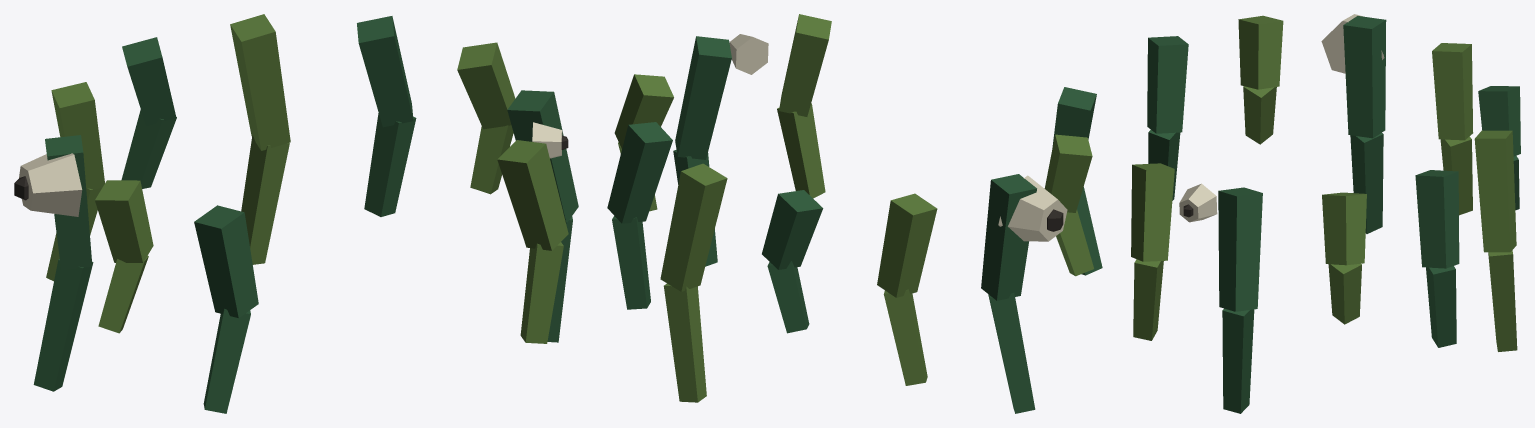
Rendered from tidesworn_hips.glb.
3 views of the same model, side by side, from view 1: azimuth 30°, elevation 25°; view 2: azimuth 150°, elevation 25°; view 3: azimuth 270°, elevation 25° (orthographic). The views are drawn at different scales.
Visible parts, largest first — view 1: tidesworn_hips; view 2: tidesworn_hips; view 3: tidesworn_hips.
Part boxes in pixels (x1=…): tidesworn_hips: x1=14, y1=14, x2=578, y2=413; tidesworn_hips: x1=607, y1=14, x2=1102, y2=413; tidesworn_hips: x1=1131, y1=14, x2=1520, y2=413.
Bounding box in the file's own units: 0.9958 × 0.4818 × 0.7767.
